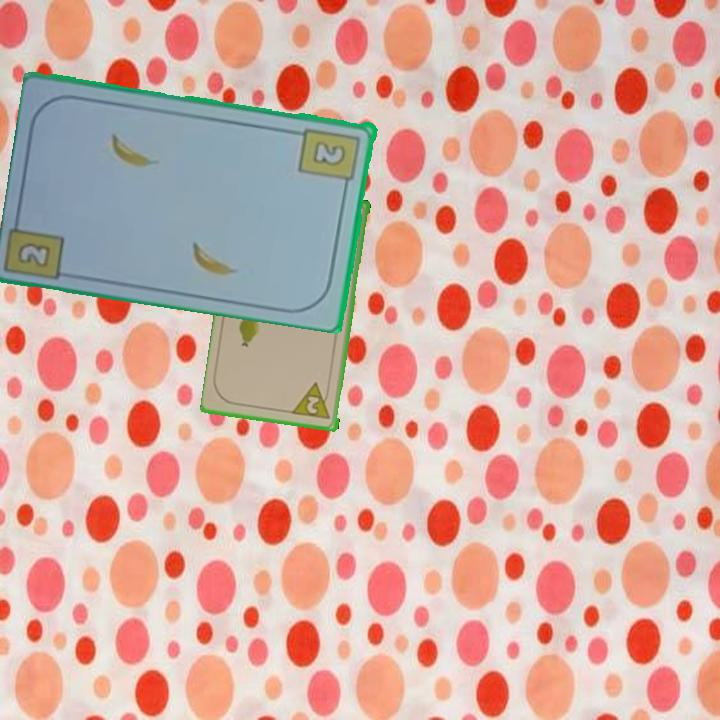2b: (296, 123, 364, 192), (14, 238, 54, 271)
2p: (290, 379, 334, 423)
